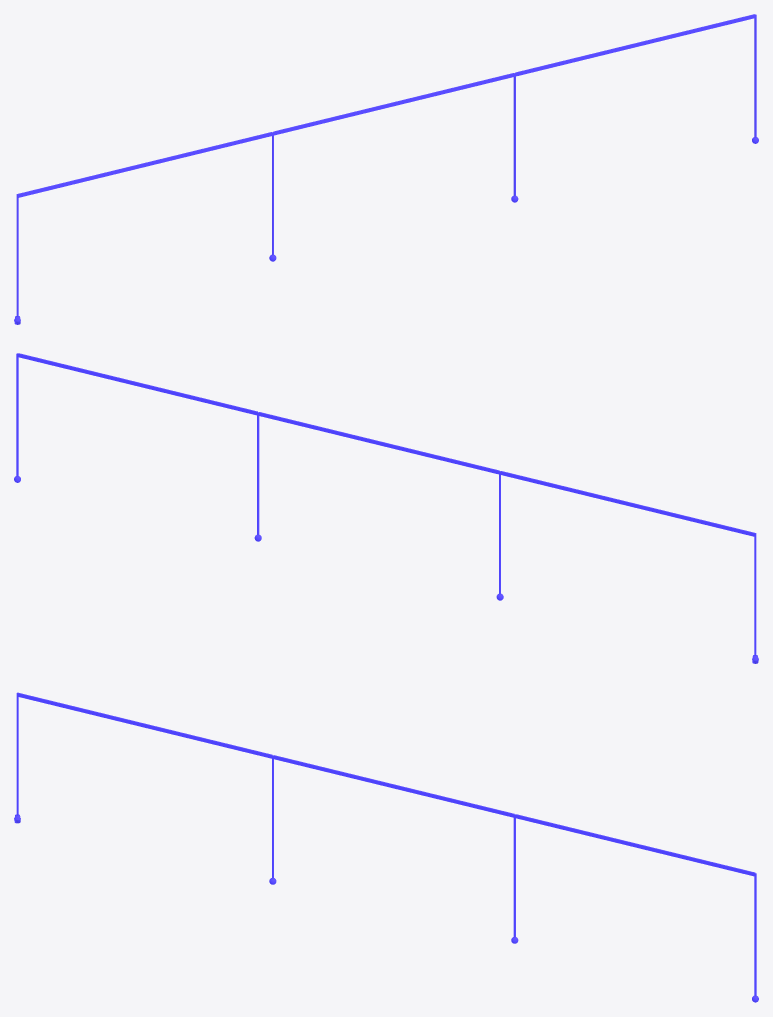
The model's file is SegnSocial.gltf.
3 renders of one model, top to bottom at view 1: azimuth 30°, elevation 25°; view 2: azimuth 150°, elevation 25°; view 3: azimuth 330°, elevation 25°, orthographic.
Parts seen in each view (by area): view 1: ListnerModuli.013; view 2: ListnerModuli.013; view 3: ListnerModuli.013.
Part boxes in pixels (bbox=[...]): ListnerModuli.013: bbox=[14, 14, 758, 324]; ListnerModuli.013: bbox=[14, 353, 758, 663]; ListnerModuli.013: bbox=[14, 692, 758, 1002].
Bounding box in the file's own units: 5.08 × 0.8435 × 0.0421.
